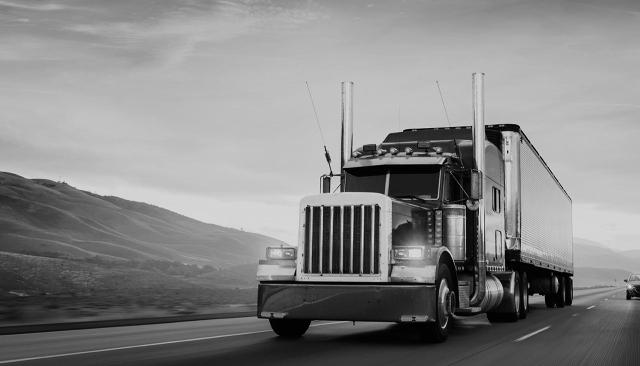truck: (234, 73, 532, 327)
